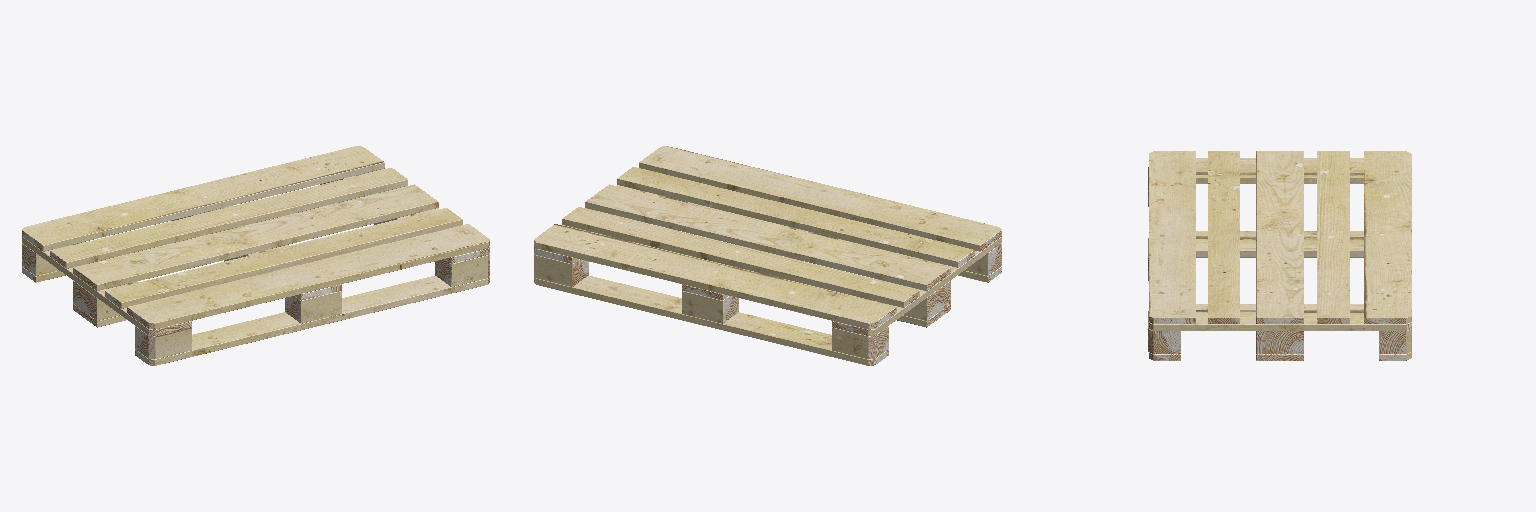
The picture shows the model from 3 angles: view 1: azimuth 30°, elevation 25°; view 2: azimuth 150°, elevation 25°; view 3: azimuth 270°, elevation 25°; orthographic projection.
Visible parts, largest first — view 1: europallet; view 2: europallet; view 3: europallet.
Boxes of the visible parts, <box> form: europallet: <box>22,146,489,365</box>; europallet: <box>534,146,1001,365</box>; europallet: <box>1148,151,1411,360</box>.
Size of the model in its own units: 120 by 14.4 by 80.04.
Materials: 1 (1 with a texture image).